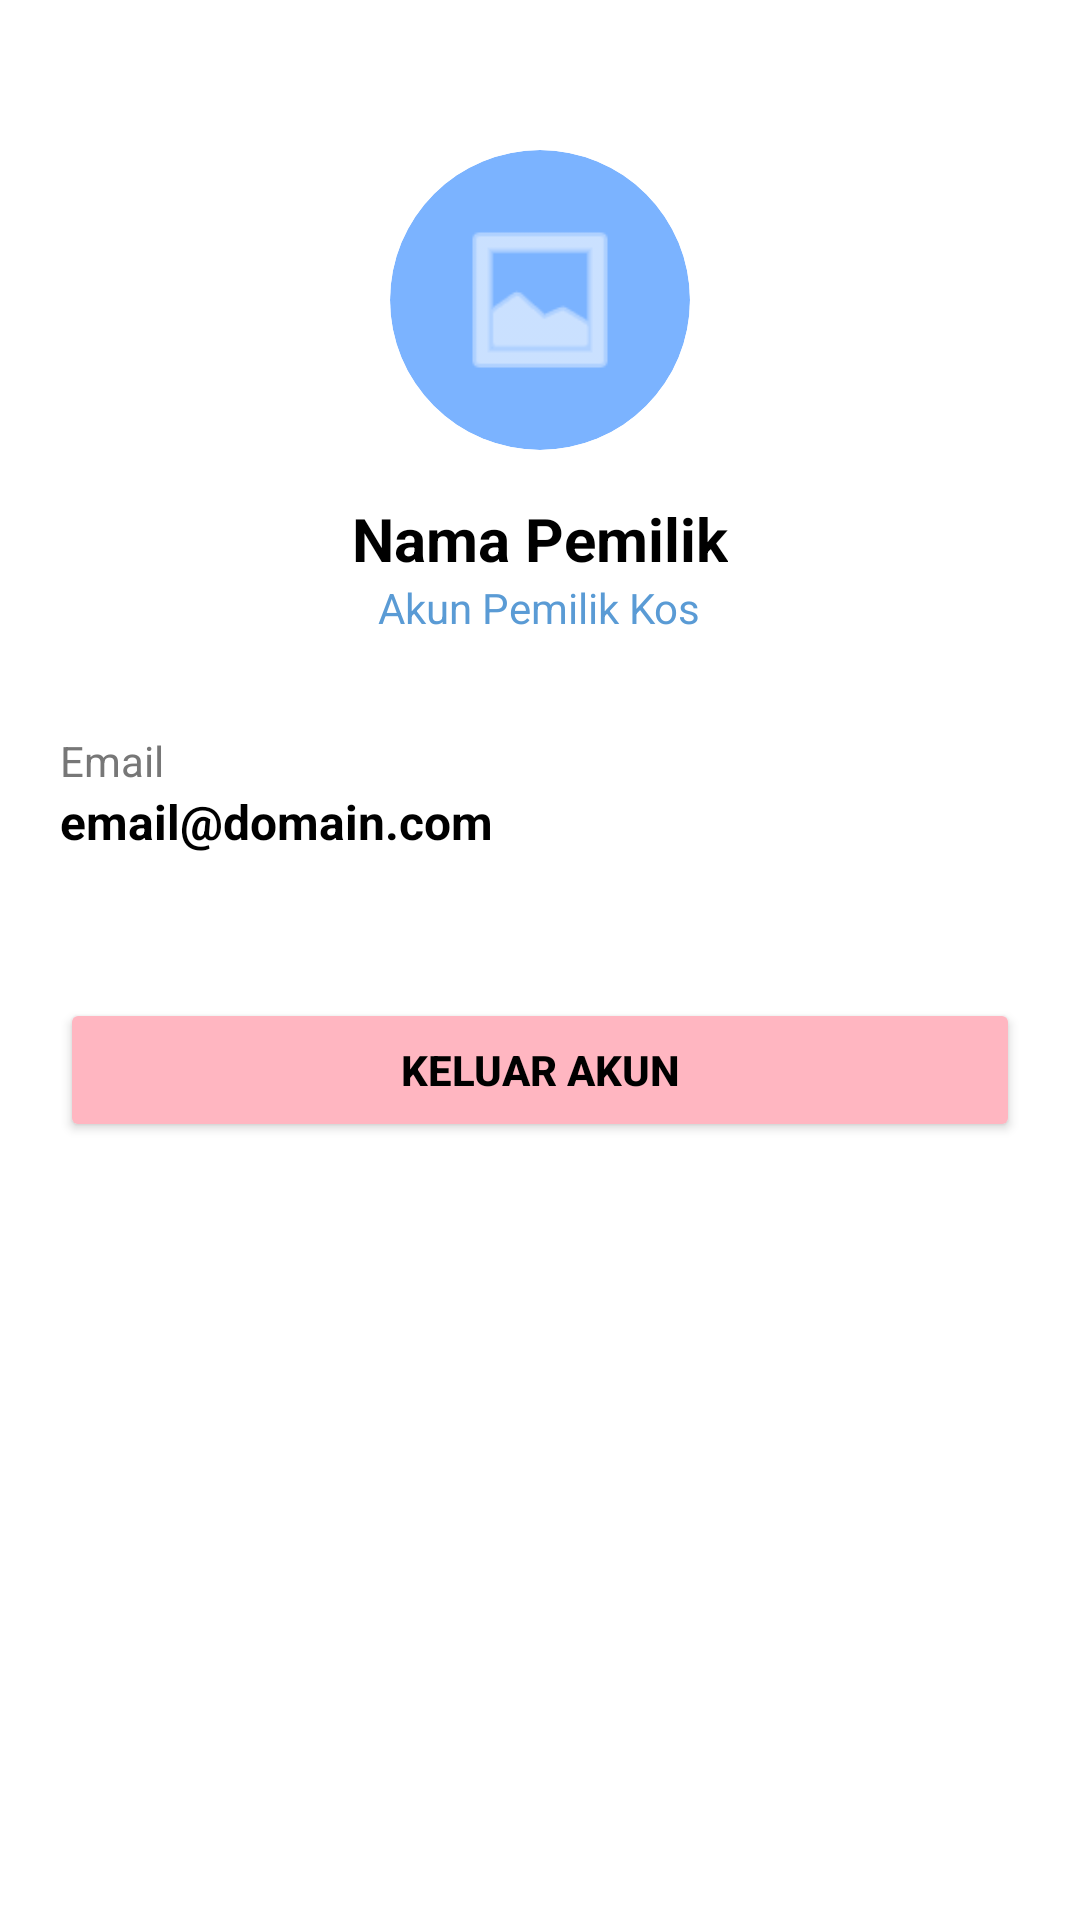

Icon click points for this 1080x1920 phone screenshot, format [x,y]:
gallery: [540,300]
